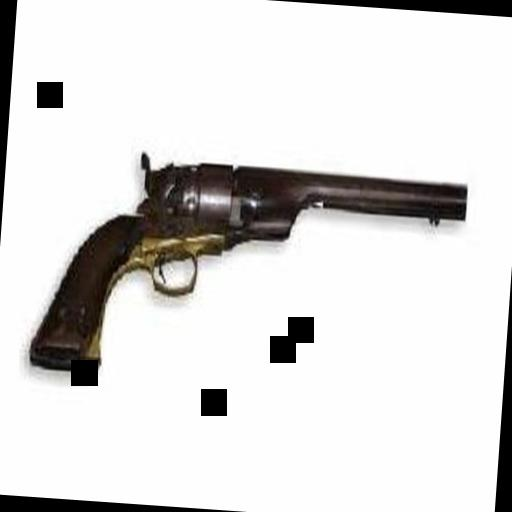Handgun: (24, 138, 468, 399)
